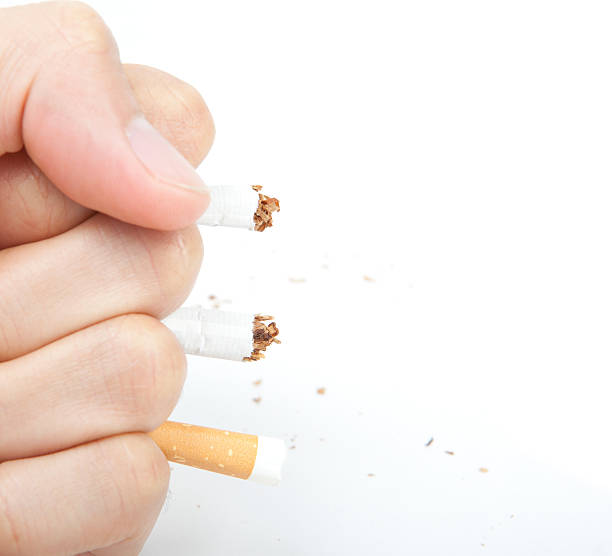cigarette: (146, 419, 287, 487), (160, 305, 283, 361), (152, 183, 280, 232)
